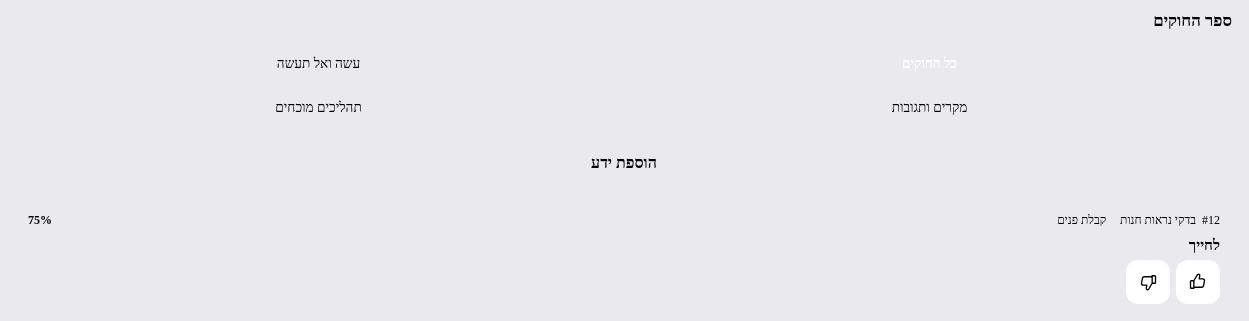
Test case: when there is nothing to show › says why the proven list is empty, not that the business has no good processes
This screenshot has width=1249, height=321.
Click the tab "תהליכים מוכחים" at (318, 108), box [16,89,621,127]
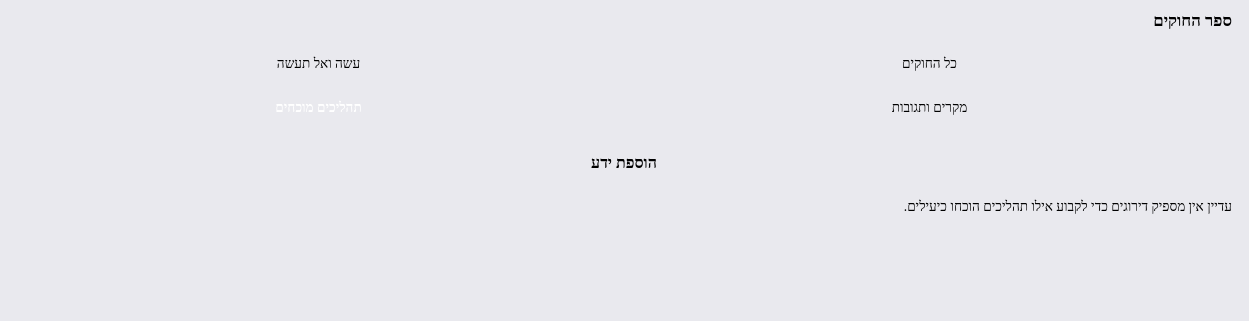
Expected: the text "דירוגים" is shown, [904,199,1232,214]
